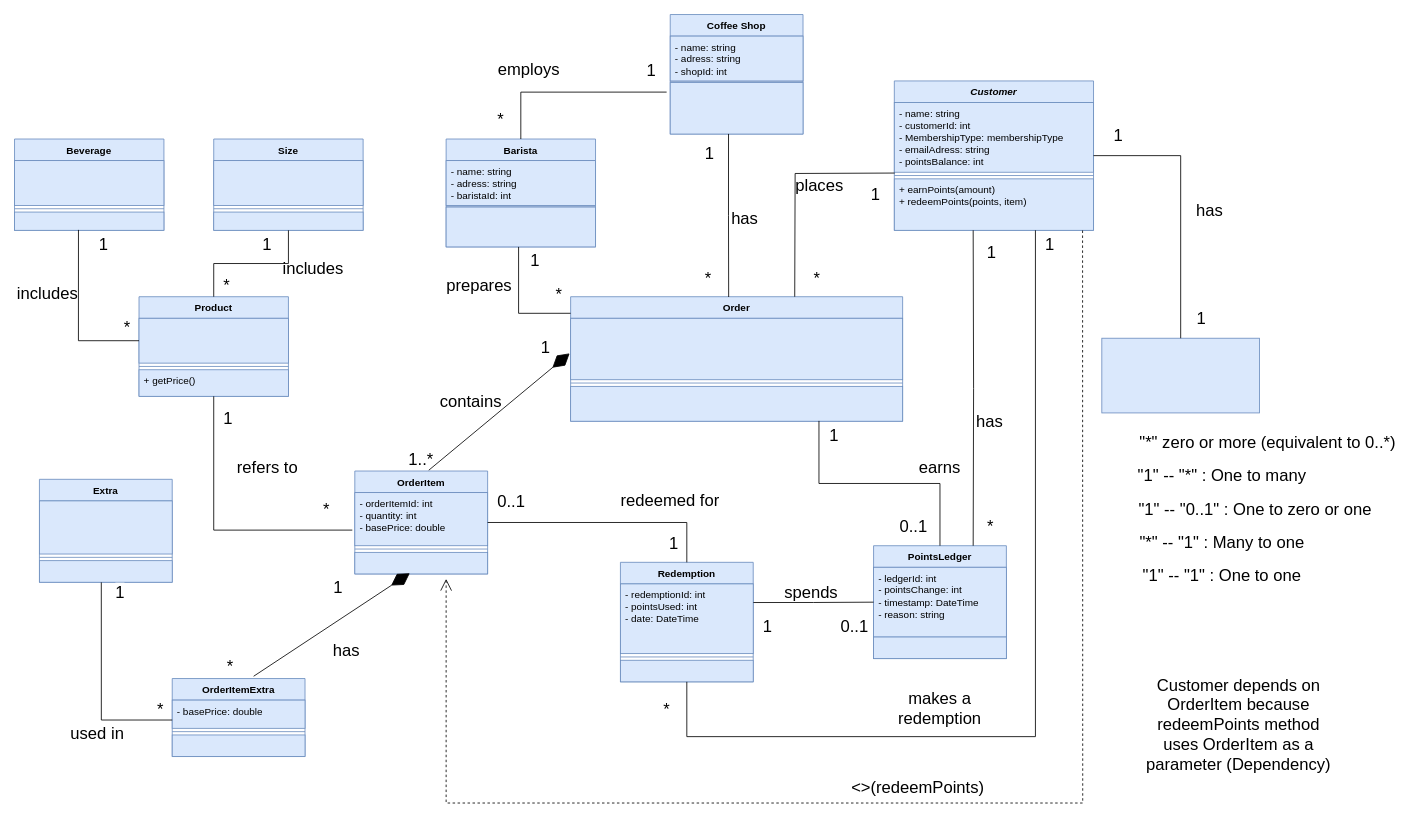
Some shapes in this 1423 by 829 pixel diagram are drawn without their labels. The centre of each missing label's shape, as x and y in pixels:
"+ addBarista() + createOrder()" goes at (x=736, y=108).
"+ calculateSubtotal()" goes at (x=421, y=563).
"+ calculateTotal(): double + addItem(product, quantity, extras)" goes at (x=736, y=403).
"+ method(type): type" goes at (x=939, y=647).
"+ prepareOrder(order: Order)" goes at (x=520, y=226).
"- extraId: int - name: string - cost: double" goes at (x=105, y=527).
"- name: string - beverageId: int" goes at (x=89, y=182).
"- name: string - sizeId: int" goes at (x=288, y=182).
"- orderId: int - timestamp: DateTime - totalPrice: double" goes at (x=736, y=348).
"- price: double - productId: int -" goes at (x=213, y=340).
"<<enumeration>> MembershipType Regular Gold" goes at (x=1180, y=375).
